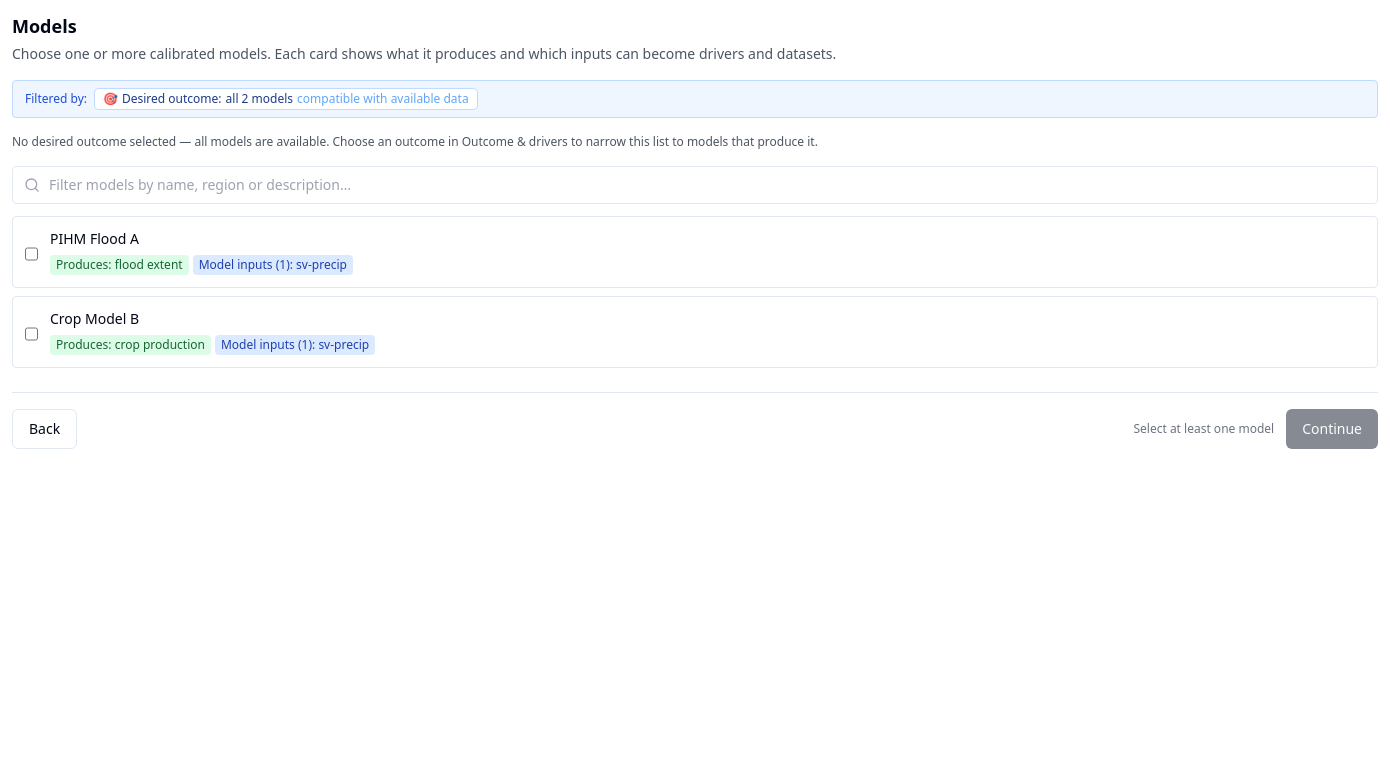
Test: ModelsStep › gates Continue on >=1 selected model
Expected: the text "PIHM Flood A" is shown, [50,229,139,248]
Expected: the button with test id "step-continue" is disabled, [1286,409,1378,449]
Click the checkbox named "select PIHM Flood A" at (32, 254), box [25,233,38,275]
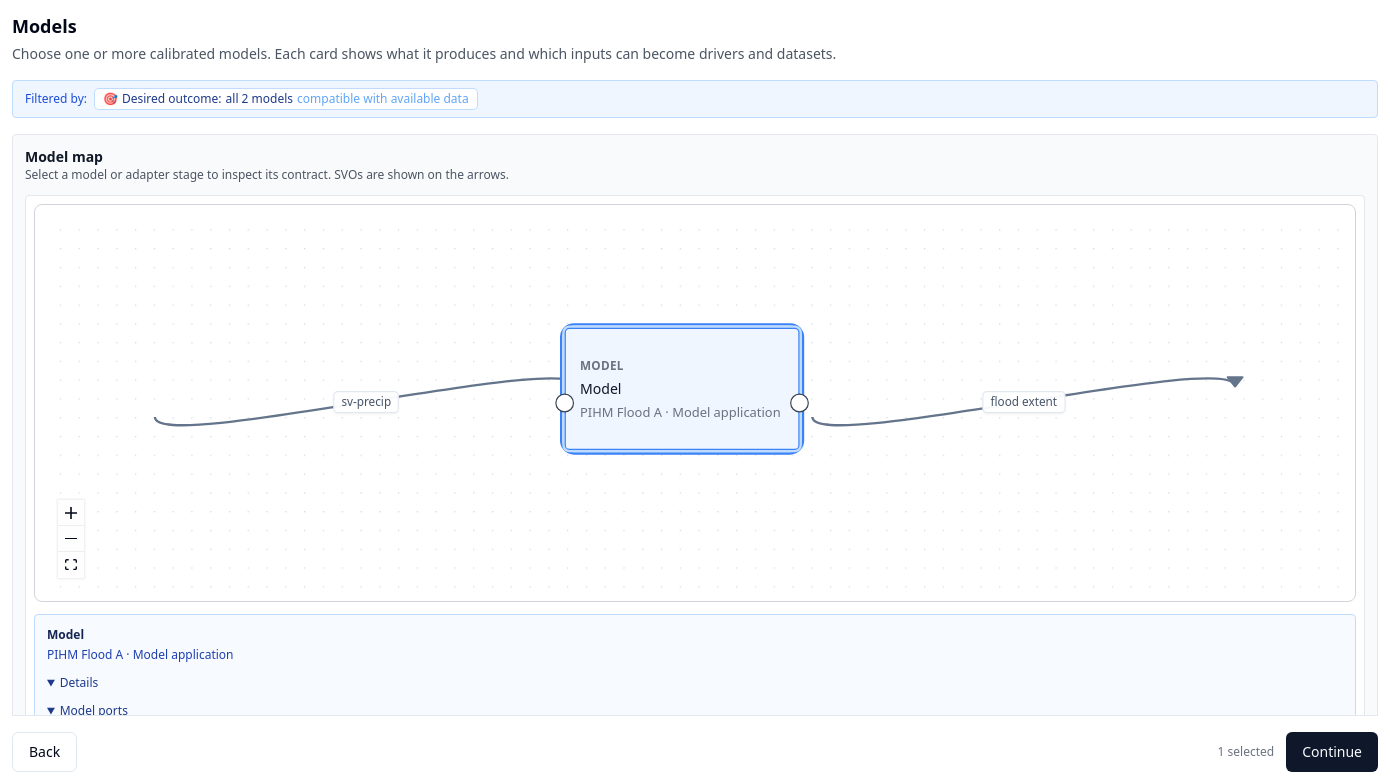
Now the button with test id "step-continue" is enabled, box [1286,732,1378,772]
